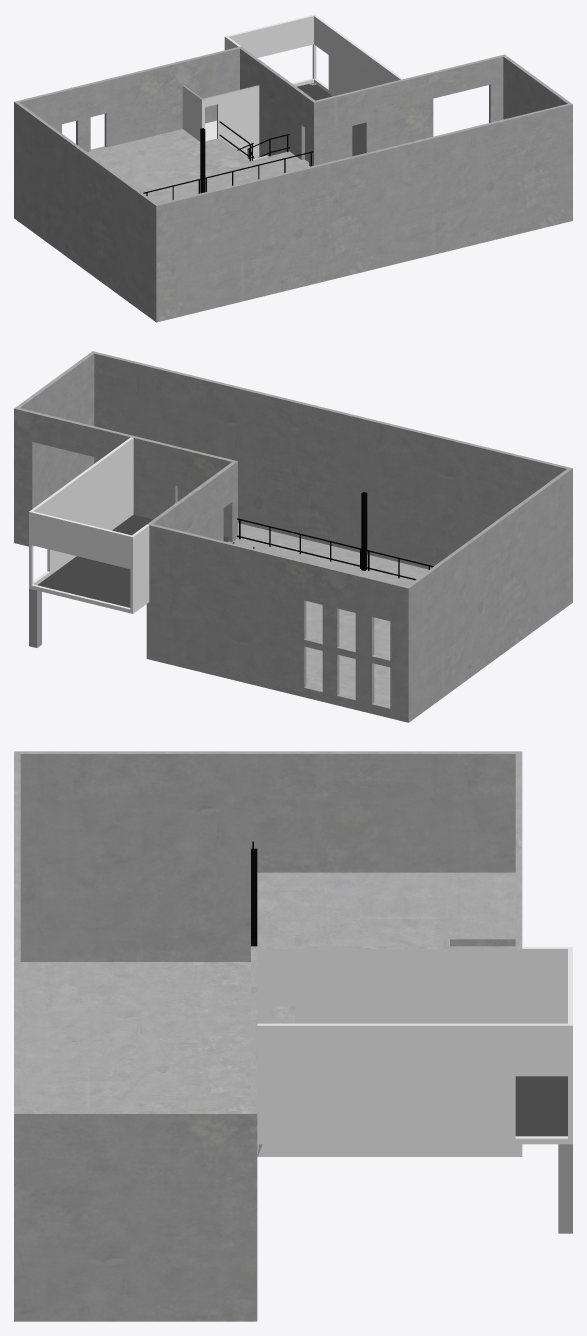
The model's file is warehouse.glb.
3 views of the same model, one above another, from view 1: azimuth 30°, elevation 25°; view 2: azimuth 150°, elevation 25°; view 3: azimuth 270°, elevation 25° (orthographic). The views are drawn at different scales.
Visible parts, largest first — view 1: warehouse_main, office_outer_wall, office_floor; view 2: warehouse_main, office_outer_wall, warehouse_floor, office_floor, rail long up, column, column_loft; view 3: warehouse_main, office_outer_wall, warehouse_floor, office_floor, column.
Part boxes in pixels (bbox=[...]): warehouse_main: bbox=[14, 46, 572, 322]; office_outer_wall: bbox=[224, 14, 402, 96]; office_floor: bbox=[297, 83, 364, 161]; warehouse_main: bbox=[14, 351, 572, 722]; office_outer_wall: bbox=[29, 437, 149, 613]; warehouse_floor: bbox=[38, 523, 428, 706]; office_floor: bbox=[37, 514, 228, 607]; rail long up: bbox=[237, 518, 433, 580]; column: bbox=[29, 588, 41, 647]; column_loft: bbox=[361, 492, 367, 570]; warehouse_main: bbox=[14, 751, 522, 1321]; office_outer_wall: bbox=[257, 947, 572, 1144]; warehouse_floor: bbox=[20, 962, 250, 1110]; office_floor: bbox=[515, 1076, 567, 1136]; column: bbox=[558, 1144, 572, 1233].
Size of the model in its own units: 26.19 by 7 by 17.06.
Materials: 17 (2 with a texture image).
